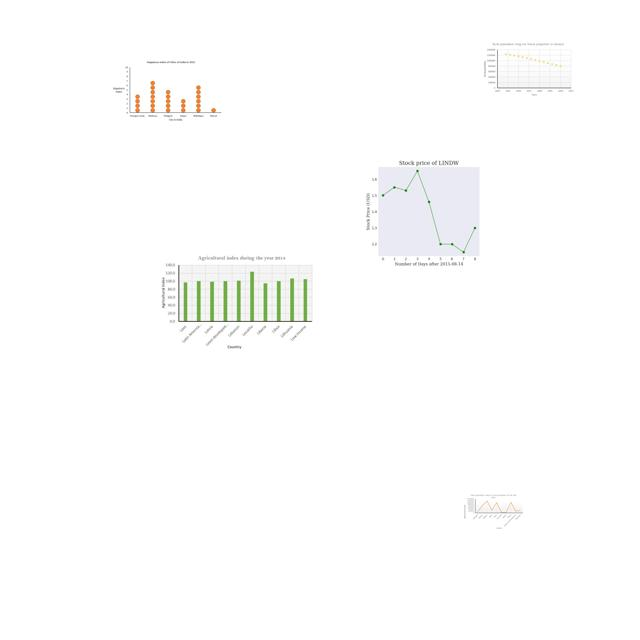Graph: (350, 153, 504, 269), (156, 254, 316, 349), (111, 60, 222, 123), (483, 42, 574, 96), (463, 493, 524, 530)
